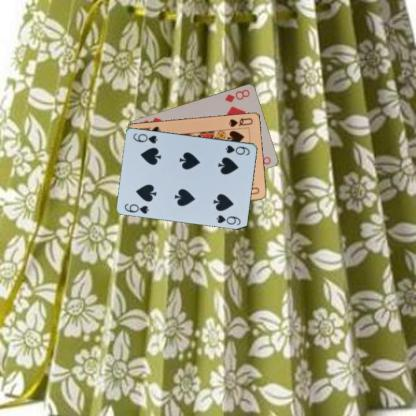6s: (223, 142, 251, 156), (122, 201, 150, 215)
8d: (222, 86, 251, 104)
Qs: (226, 115, 254, 128)
